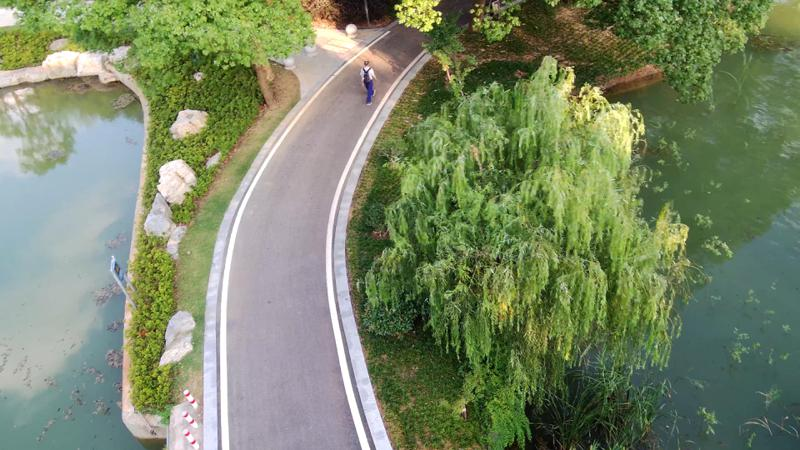passerby: (357, 58, 380, 106)
